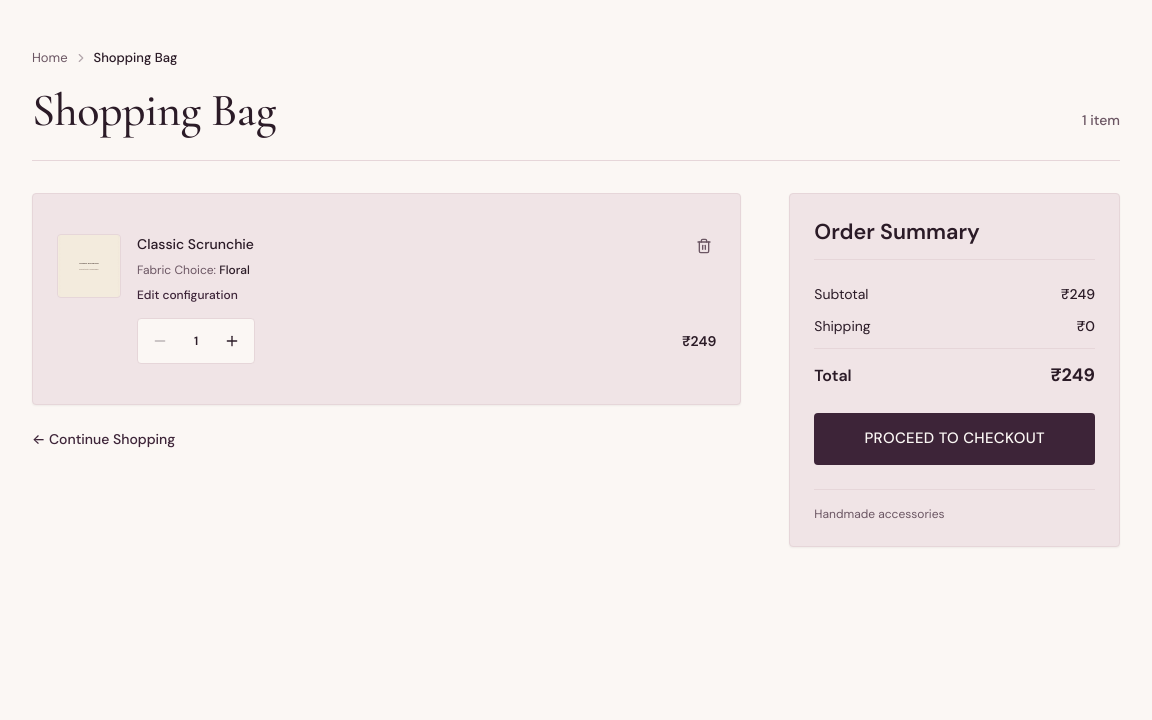
Test: FE-23: Cart page and edit configuration › saving configuration sends new option IDs to API and shows updated price from response
The width and height of the screenshot is (1152, 720).
Click the button with test id "edit-config-btn-item-1": click(187, 296) [137, 288, 238, 304]
(page scrolled)
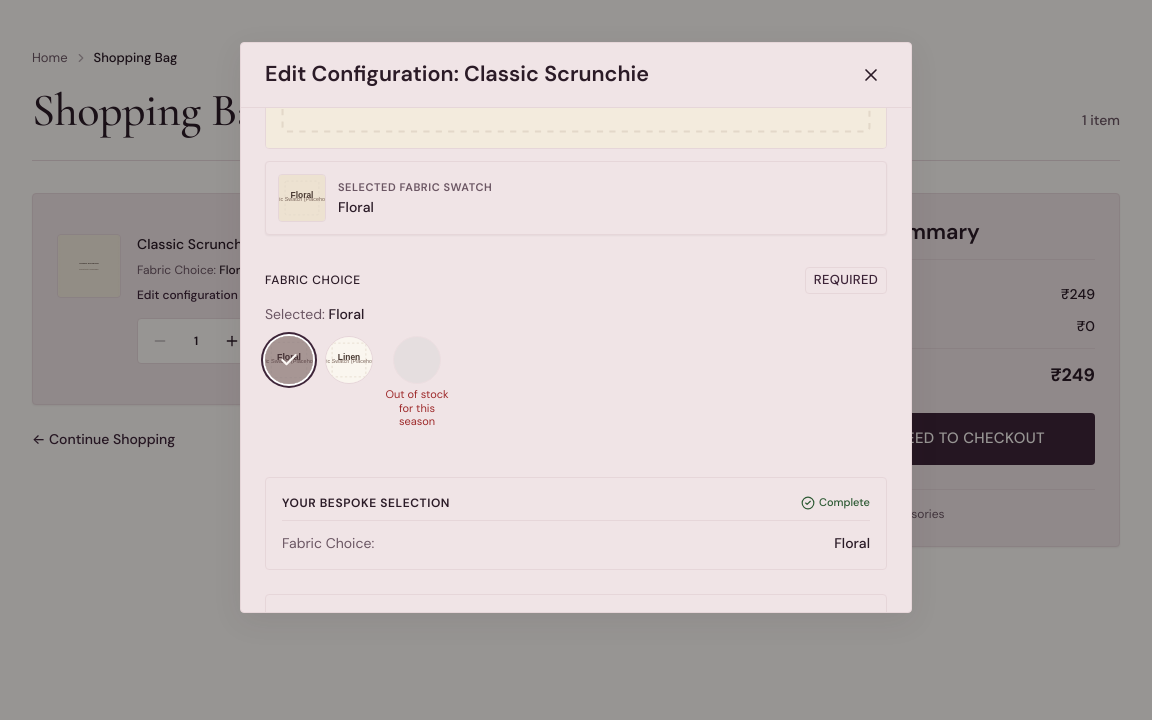
Note: Select Natural Linen
Click the radio button named "Natural Linen": click(349, 360) [325, 336, 373, 384]
(page scrolled)
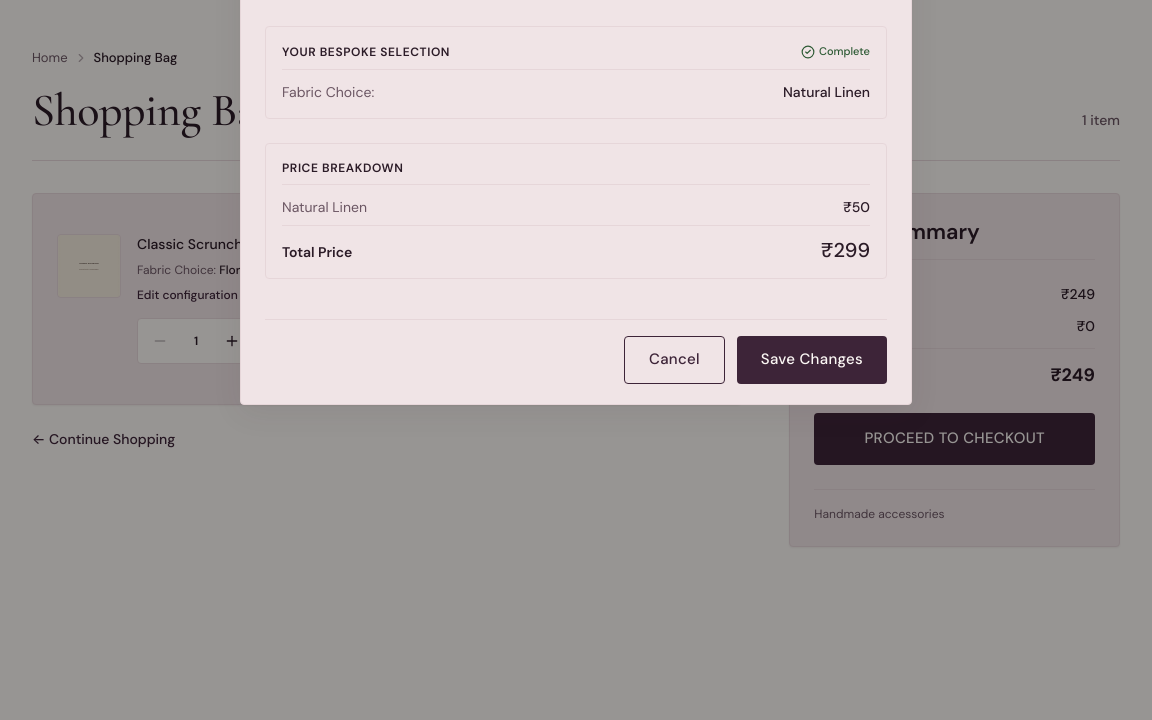
Expected: the button with test id "save-configuration-btn" is enabled
Click the button with test id "save-configuration-btn": click(812, 360) [737, 336, 887, 384]
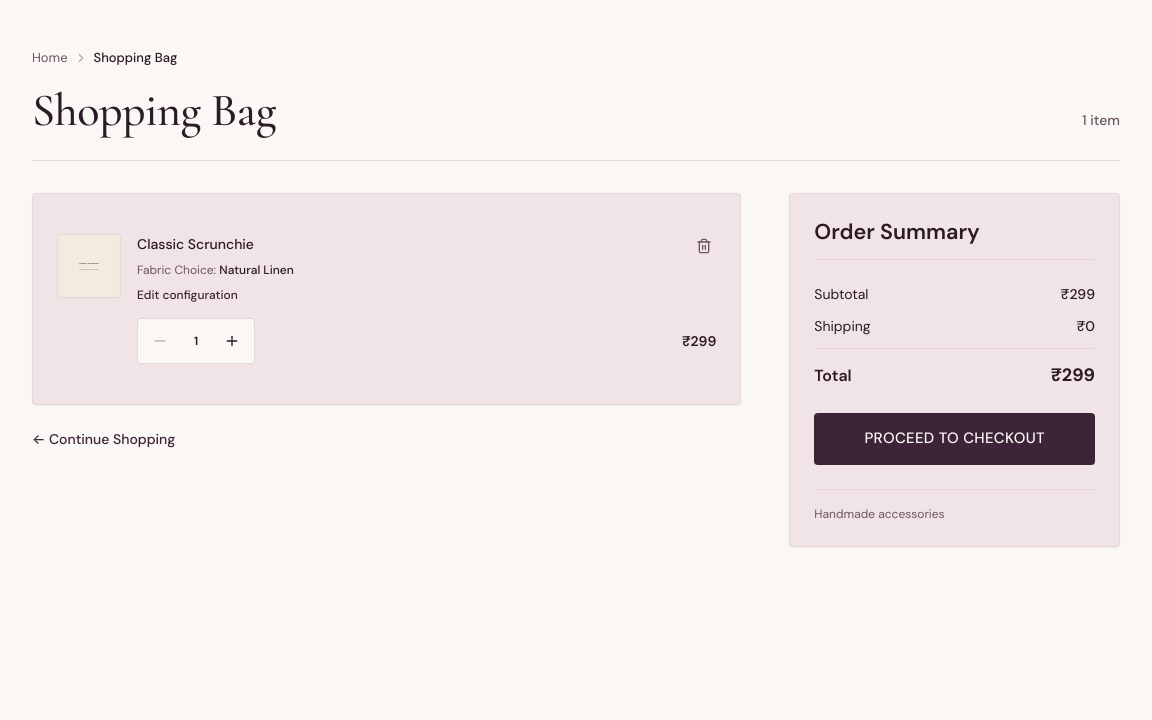
Expected: the text with test id "cart-summary-total" reads "₹299", [1051, 362, 1095, 386]
